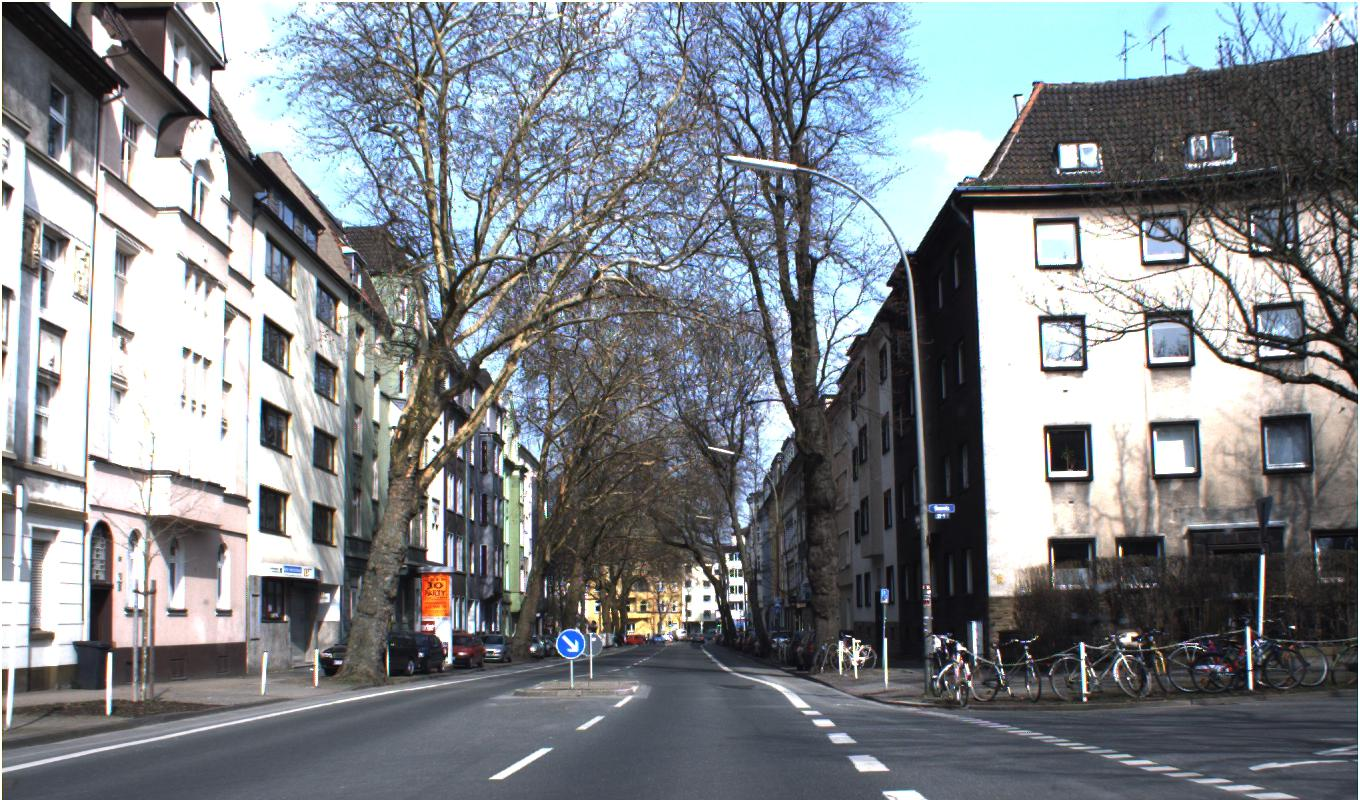mandatory: (555, 628, 585, 659)
